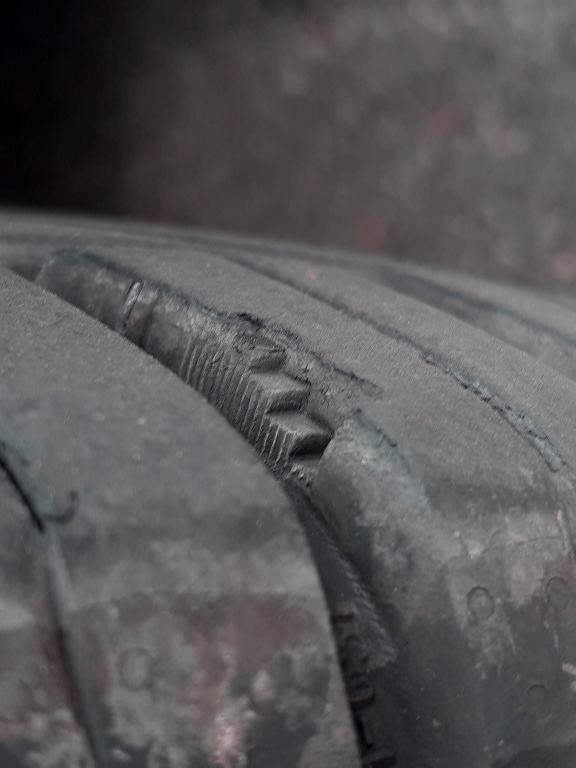temoin:80: (172, 289, 400, 500)
